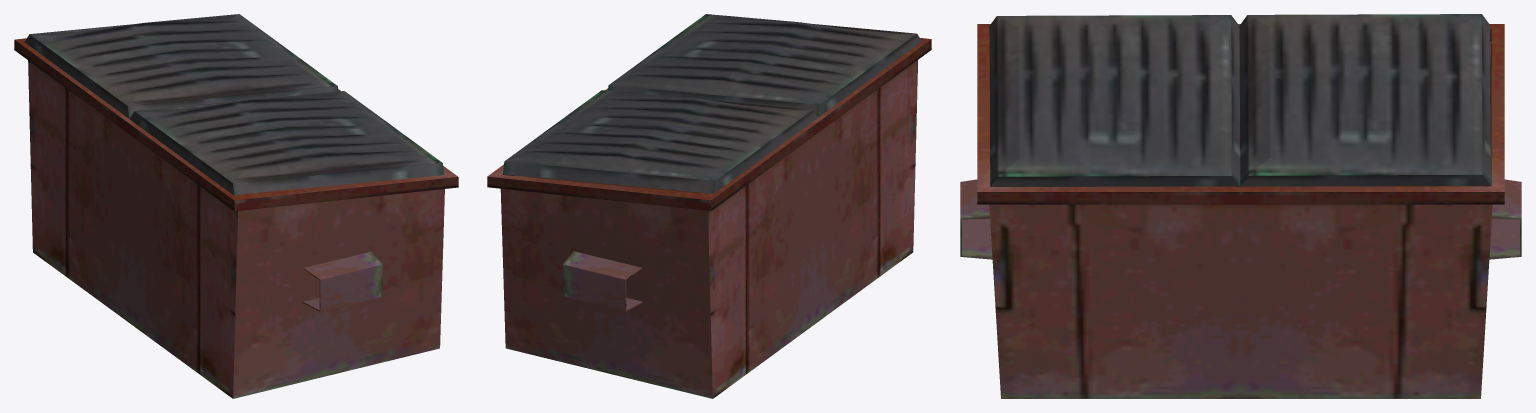
The model's file is Urban_DumpsterDiagonalClosedRed_Model.fbx.
3 views of the same model, side by side, from view 1: azimuth 30°, elevation 25°; view 2: azimuth 150°, elevation 25°; view 3: azimuth 270°, elevation 25° (orthographic). The views are drawn at different scales.
Parts seen in each view (by area): view 1: Urban_DumpsterDiagonalClosedRed_Mesh; view 2: Urban_DumpsterDiagonalClosedRed_Mesh; view 3: Urban_DumpsterDiagonalClosedRed_Mesh.
Part boxes in pixels (<box>): Urban_DumpsterDiagonalClosedRed_Mesh: <box>14,14,458,398</box>; Urban_DumpsterDiagonalClosedRed_Mesh: <box>487,14,931,398</box>; Urban_DumpsterDiagonalClosedRed_Mesh: <box>960,14,1521,398</box>.
Size of the model in its own units: 2.03 by 1.89 by 3.67.
